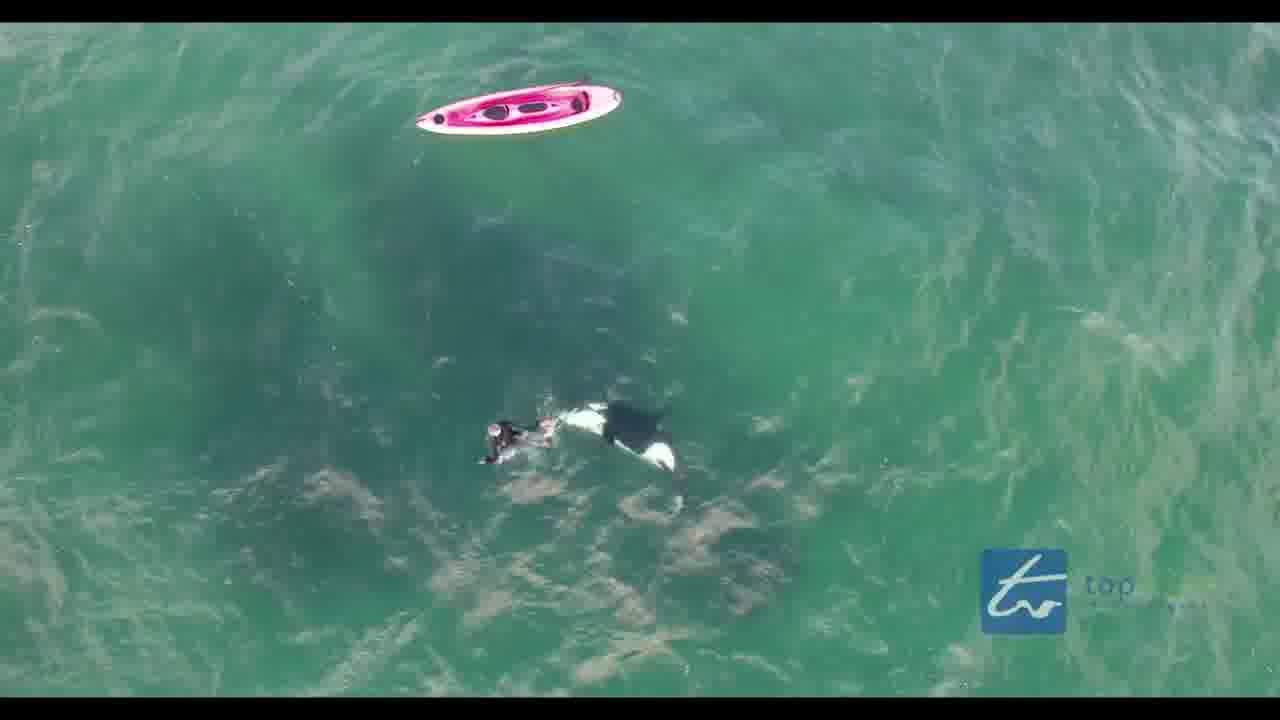swimmer: (476, 411, 535, 454)
